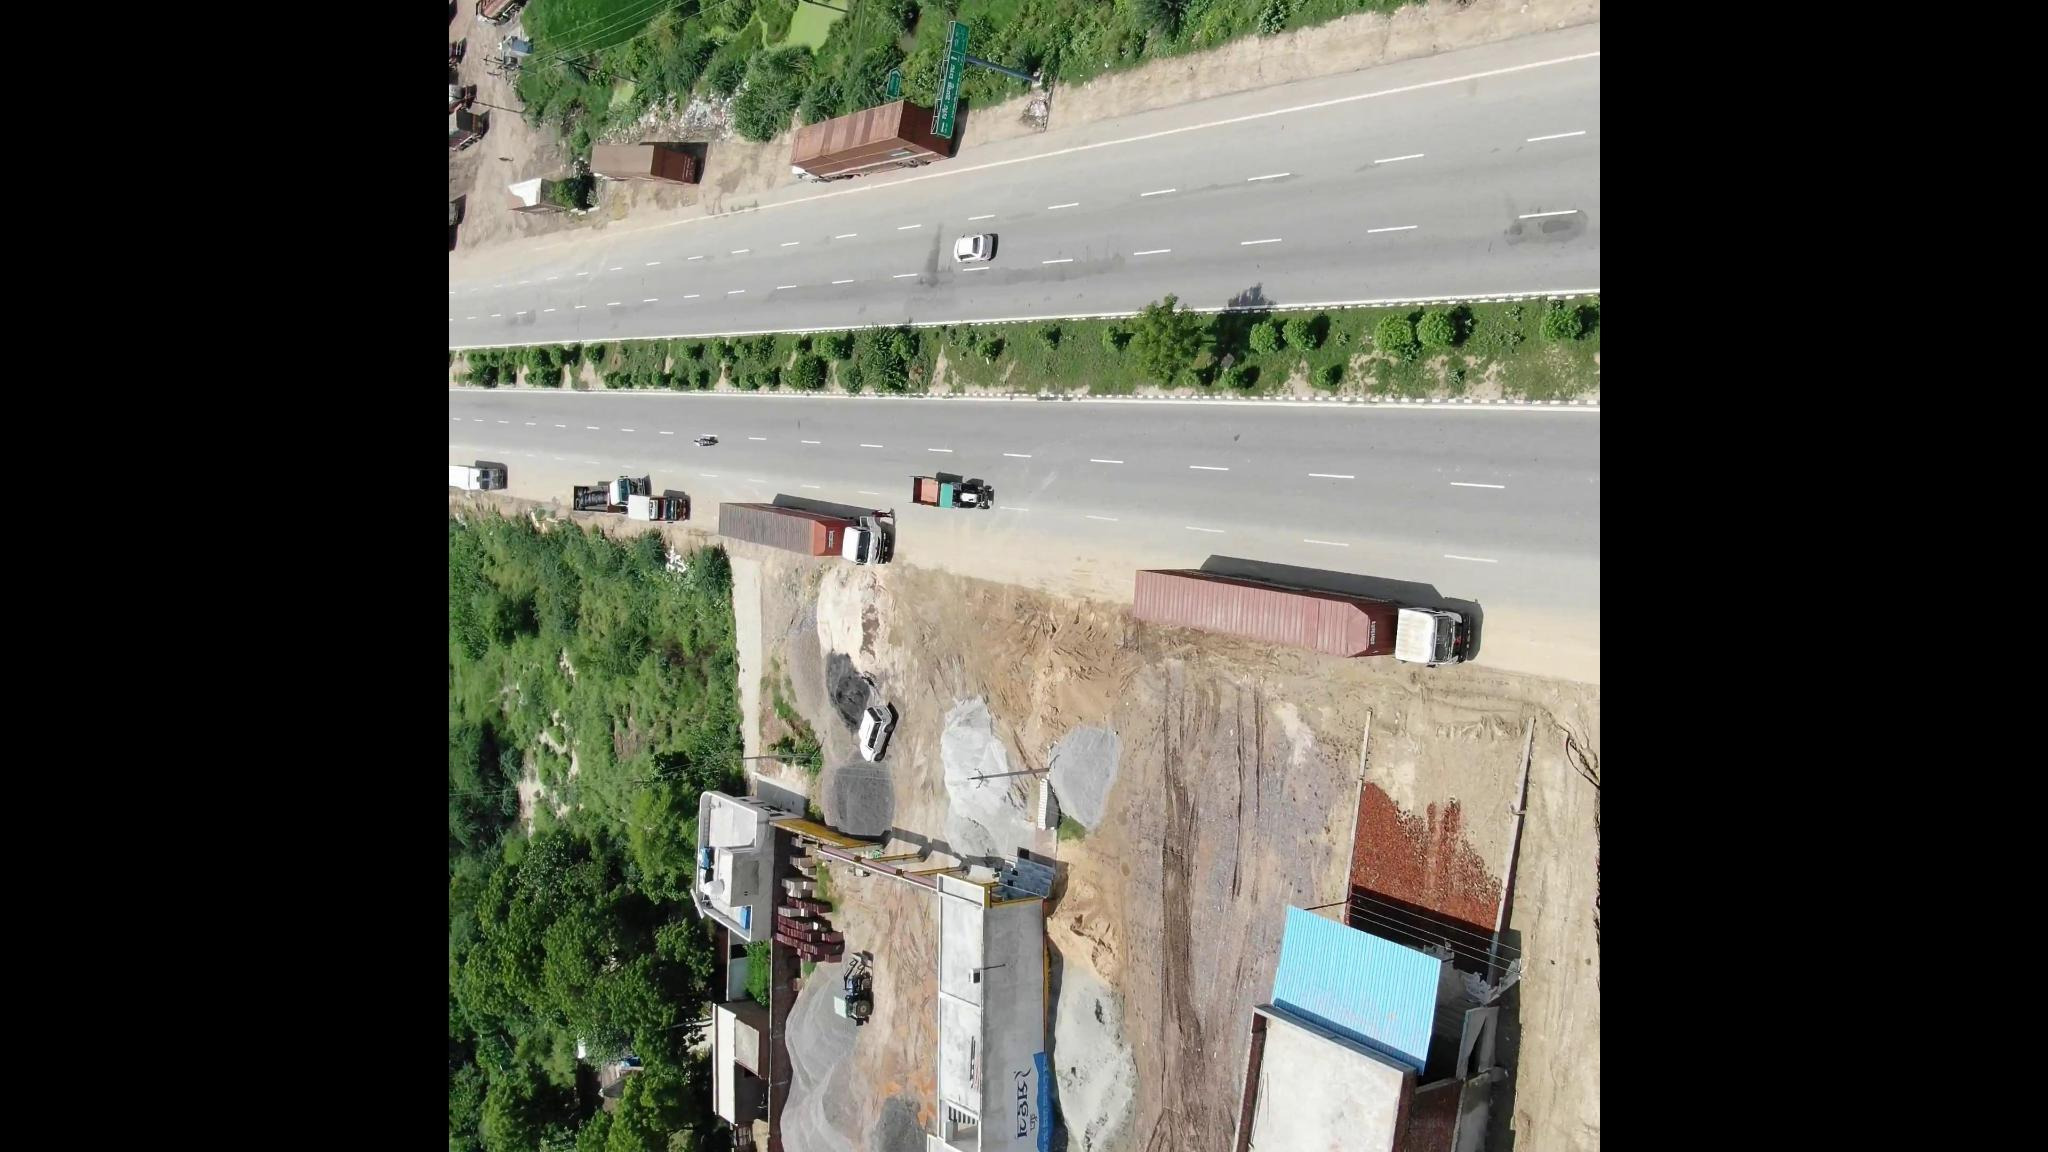Potholes: (907, 262, 931, 295)
